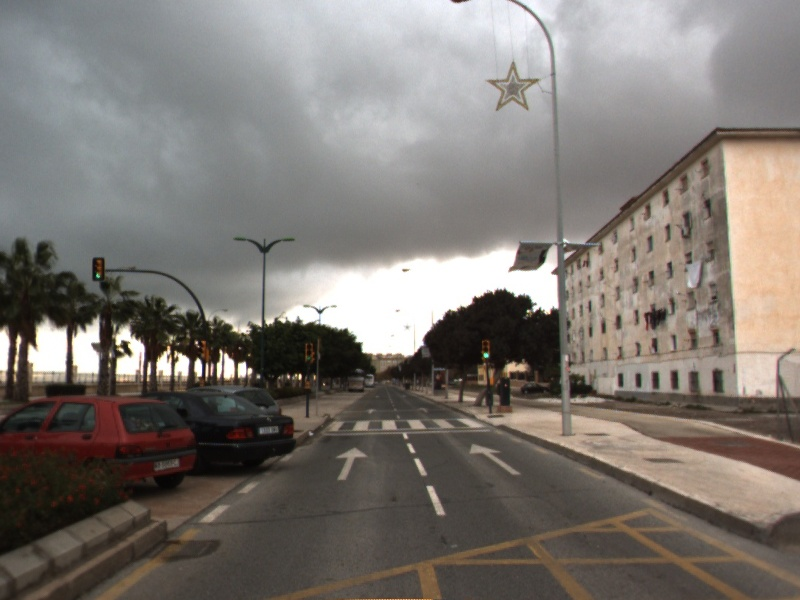STRAIGHT: (468, 442, 524, 477), (334, 445, 371, 481)
